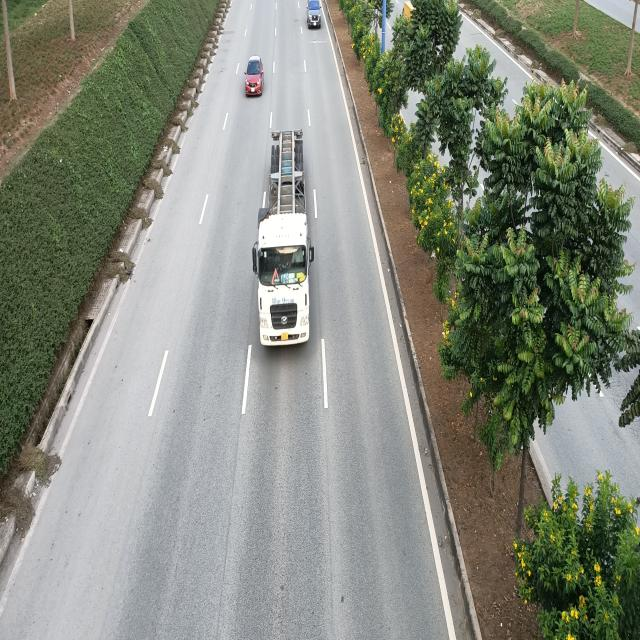car: (244, 56, 264, 96), (307, 0, 323, 29)
container: (254, 132, 316, 352)
